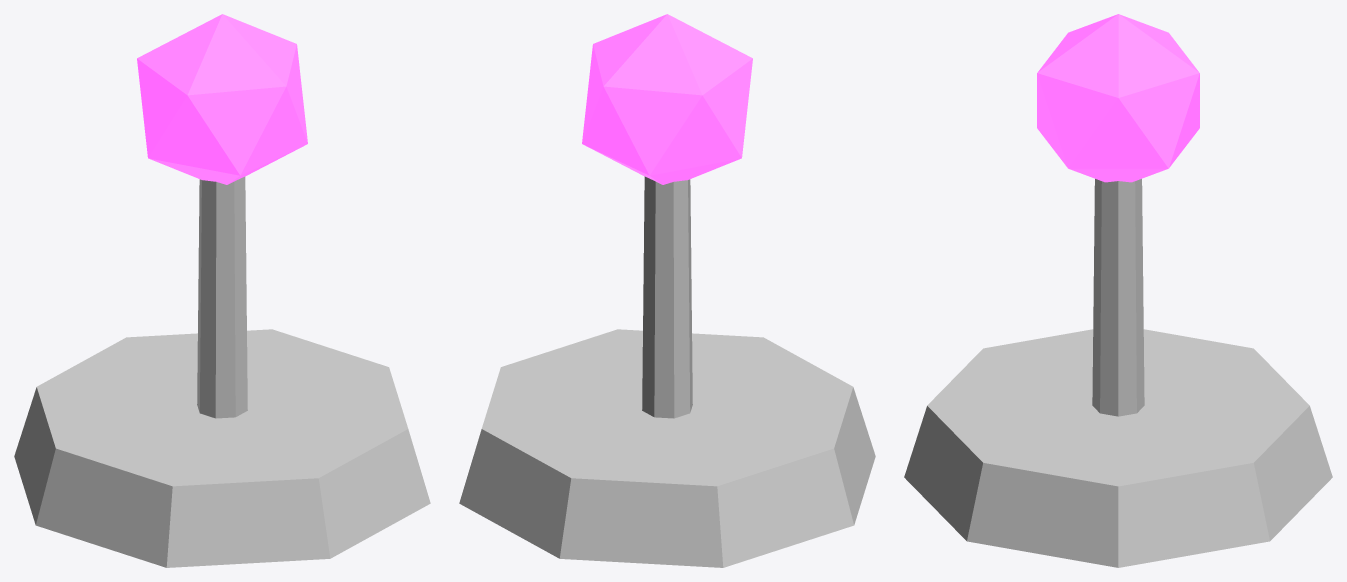
3 renders of one model, left to right at view 1: azimuth 30°, elevation 25°; view 2: azimuth 150°, elevation 25°; view 3: azimuth 270°, elevation 25°, orthographic.
Parts seen in each view (by area): view 1: Neon_GiantJoystick_Simple; view 2: Neon_GiantJoystick_Simple; view 3: Neon_GiantJoystick_Simple.
Part boxes in pixels (bbox=[...]): Neon_GiantJoystick_Simple: bbox=[14, 14, 430, 567]; Neon_GiantJoystick_Simple: bbox=[459, 14, 875, 567]; Neon_GiantJoystick_Simple: bbox=[904, 14, 1332, 567].
Bounding box in the file's own units: 1.3 × 1.55 × 1.3.
